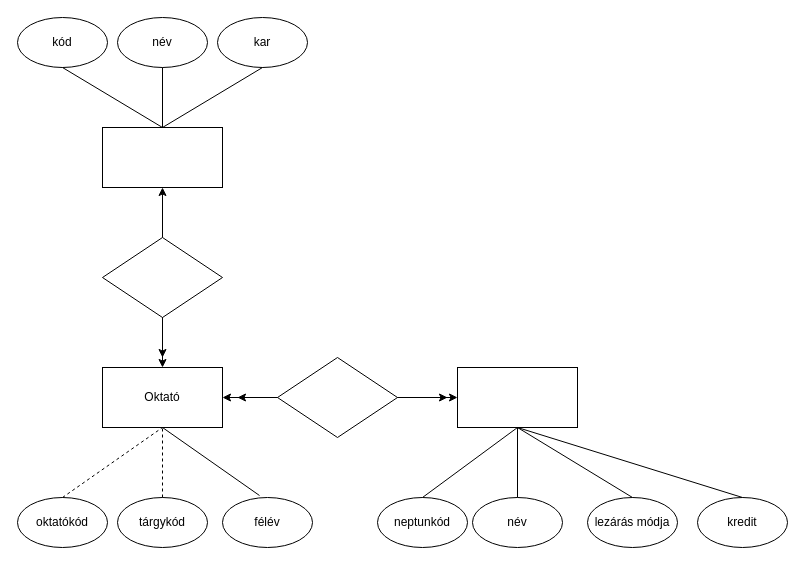
The diagram is 805 pixels wide and 565 high, and some of its shapes have lost their labels. The centre of each missing label's shape, as x and y in pixels:
Oktató-Tantárgy: (x=337, y=397)
Tanszék: (x=162, y=157)
Tanszék-Oktató: (x=162, y=277)
Tantárgy: (x=517, y=397)
